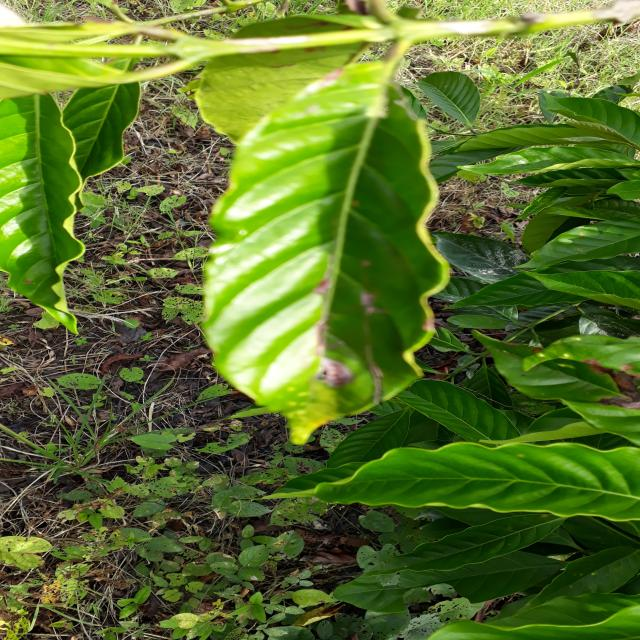Enfermedad-Roya: (206, 39, 452, 447)
